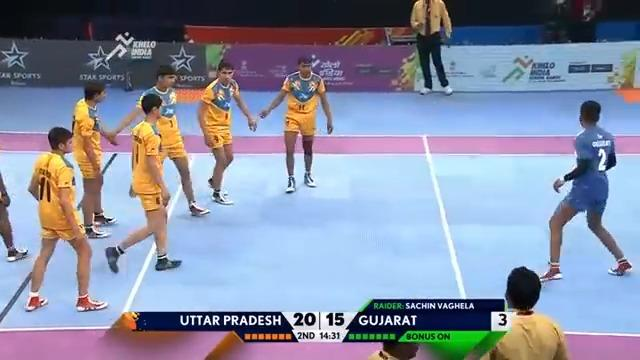Player: (538, 99, 632, 282), (105, 63, 210, 217), (24, 126, 108, 312), (104, 92, 182, 273), (258, 55, 333, 192), (196, 60, 257, 205), (479, 265, 569, 359), (70, 79, 117, 238), (0, 143, 28, 261)
referee: (409, 0, 453, 95)
